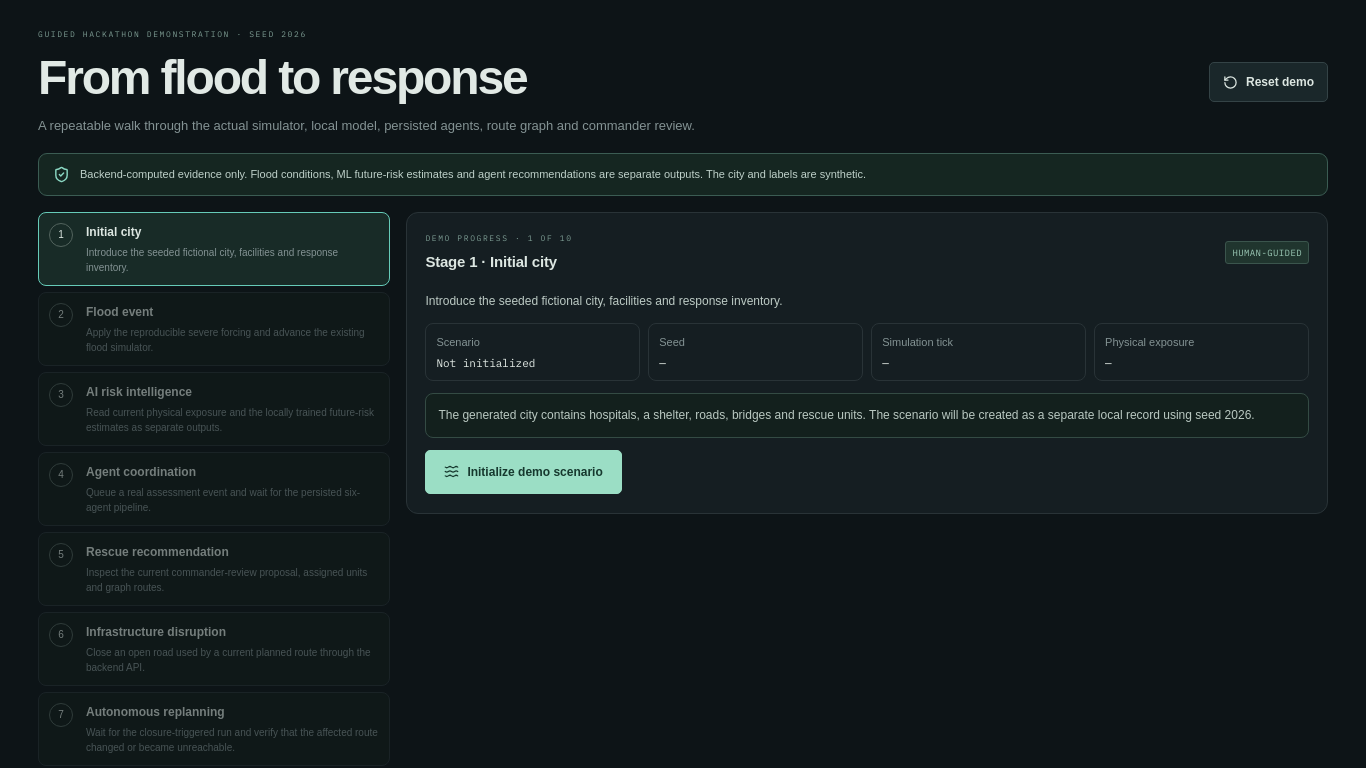
Test: guided demo › transitions through real initialization and flood actions using the configured 12 ticks
Click the button "Initialize demo scenario".
click(524, 472)  # box [425,450,622,494]
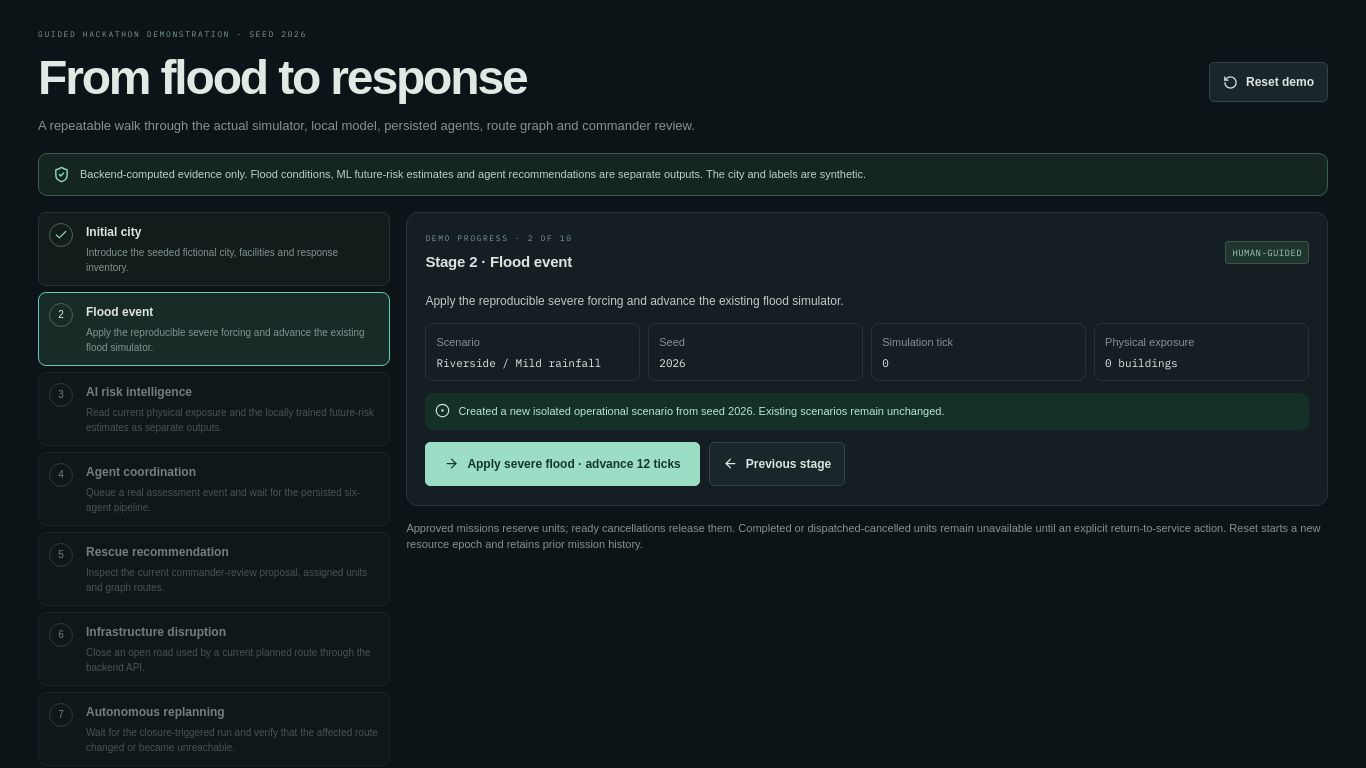
Result: the heading "Stage 2 · Flood event" is shown at [425,250,573,273]
Click the button "Apply severe flood · advance 12 ticks".
click(563, 464)  # box [425,442,700,486]
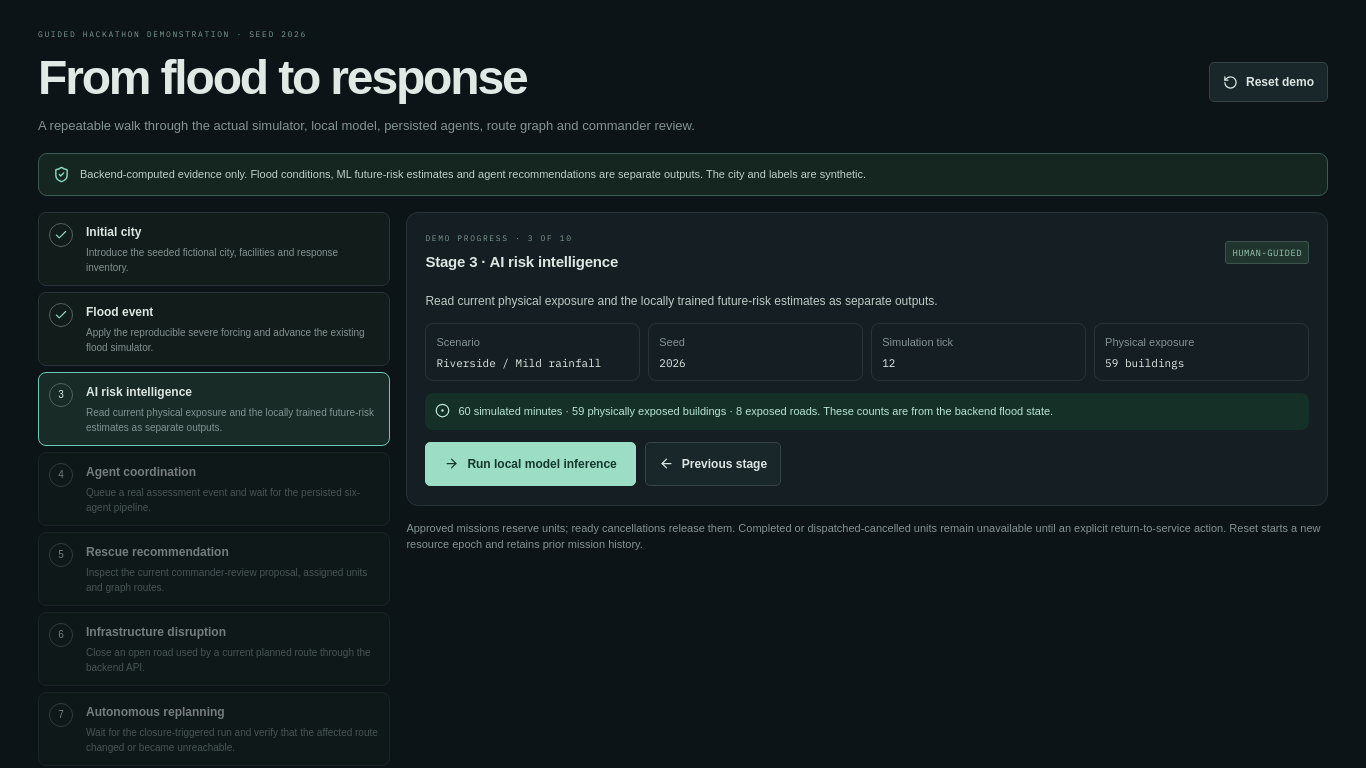
Result: the heading "Stage 3 · AI risk intelligence" is shown at [425,250,618,273]
Result: the text "59 physically exposed buildings" is shown at [458,405,1053,417]
